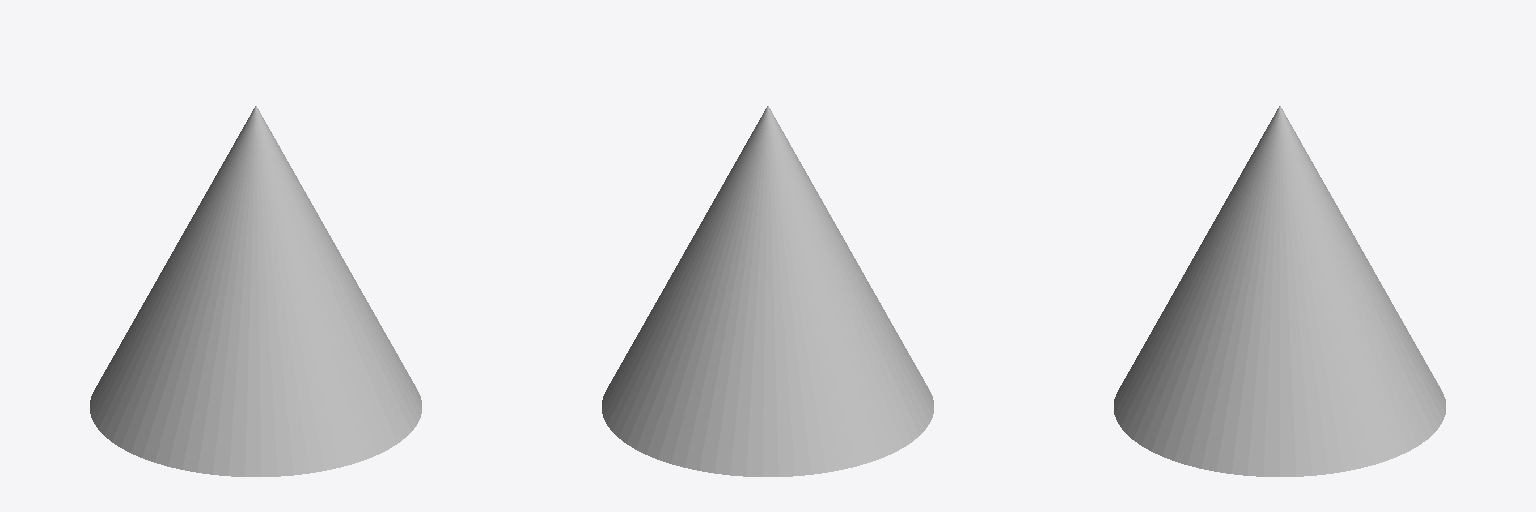
Rendered from DefaultCone.obj.
The picture shows the model from 3 angles: view 1: azimuth 30°, elevation 25°; view 2: azimuth 150°, elevation 25°; view 3: azimuth 270°, elevation 25°; orthographic projection.
Parts seen in each view (by area): view 1: Cone; view 2: Cone; view 3: Cone.
Part boxes in pixels (bbox=[...]): Cone: bbox=[90, 106, 421, 476]; Cone: bbox=[602, 106, 933, 476]; Cone: bbox=[1114, 106, 1445, 476].
Bounding box in the file's own units: 2 × 2 × 2.